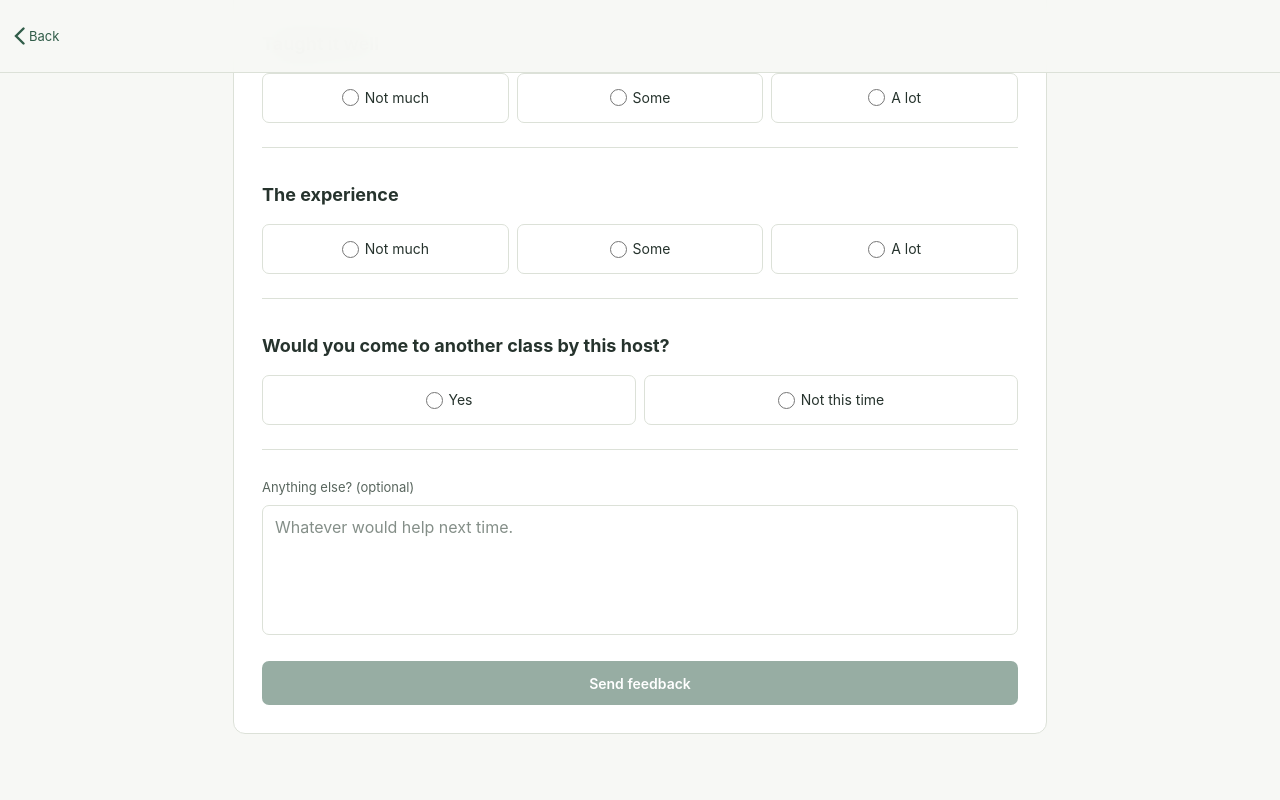
Test: FeedbackScreen › shows the already-voted state on a 409 AlreadyVoted
(page scrolled)
Step 1. Click the radio button labelled "Yes" → [434, 400], box [426,392,442,409]
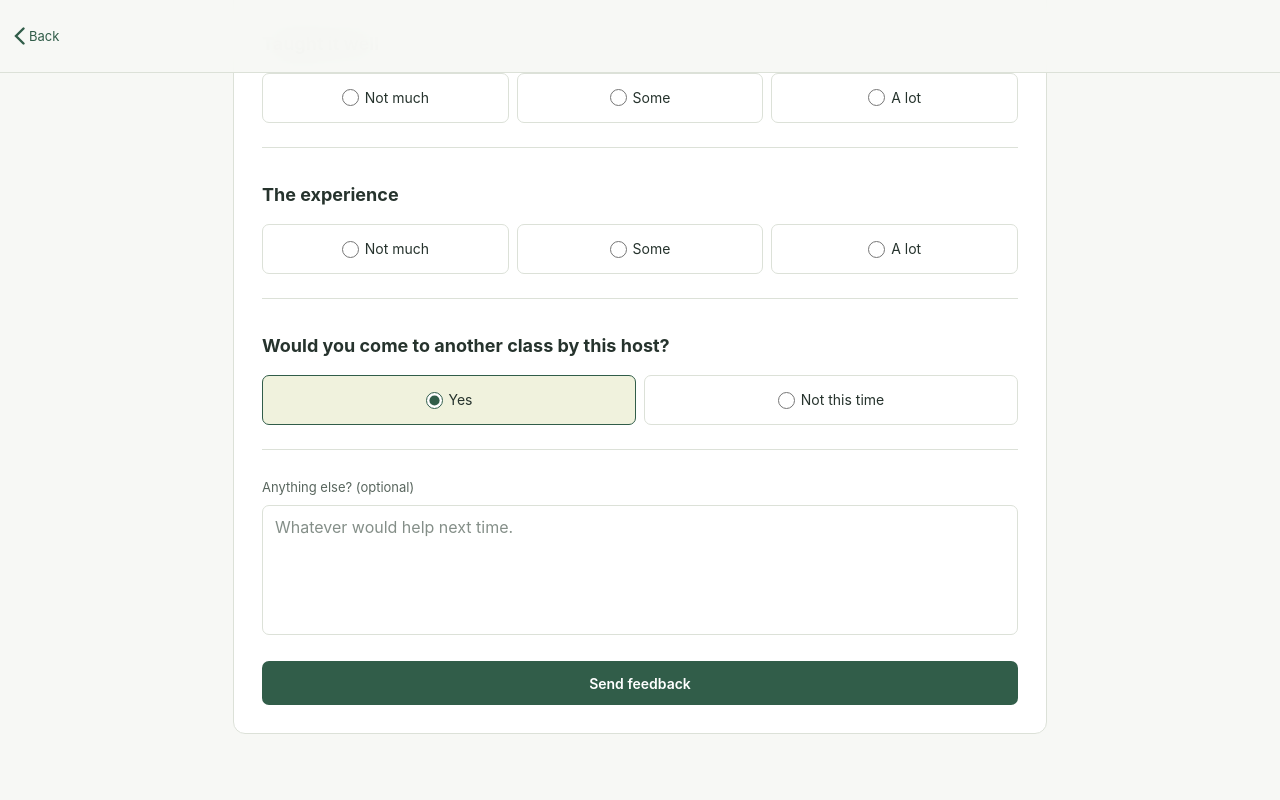
Step 2. Click the button "Send feedback" → [640, 684], box [262,662,1018,706]
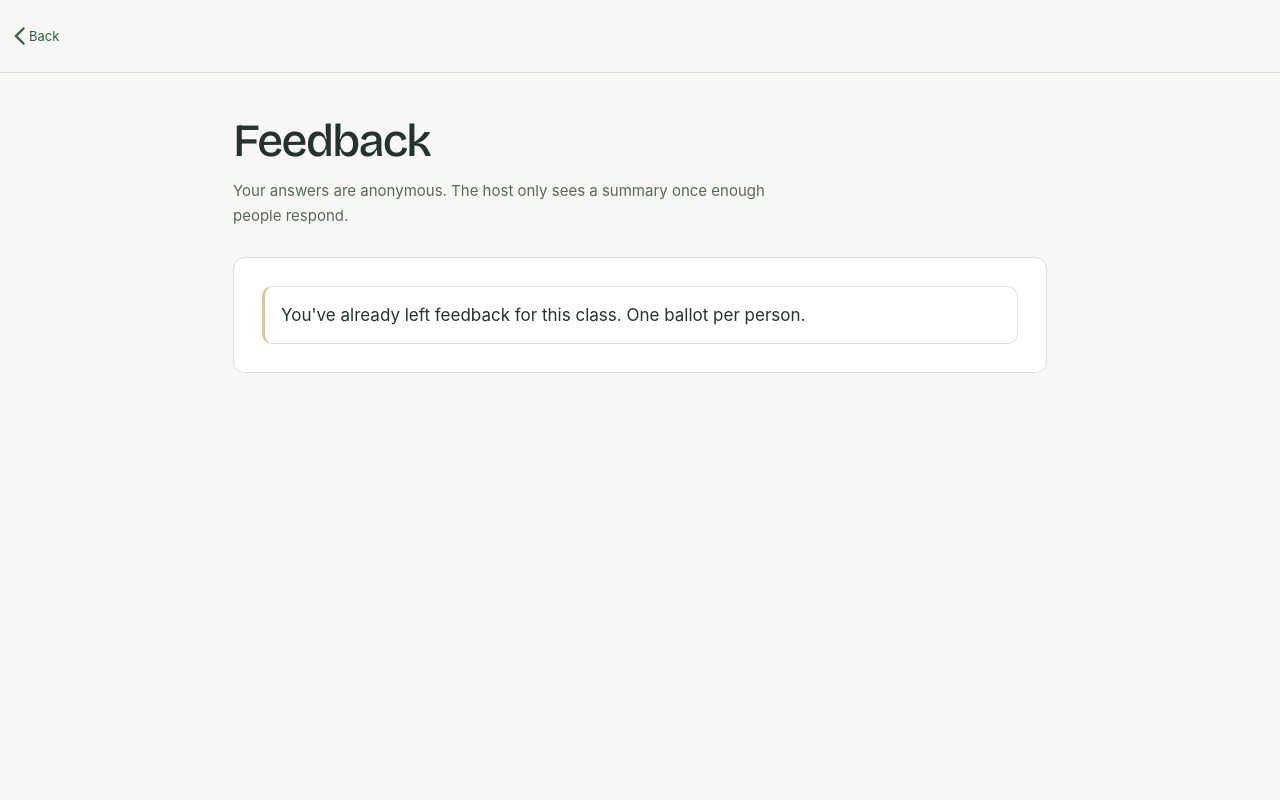
Expected: the text "already left feedback for this class" is shown, [281,305,805,325]
